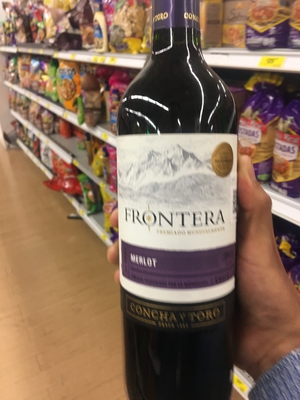frontera merlot: (92, 23, 247, 383)
